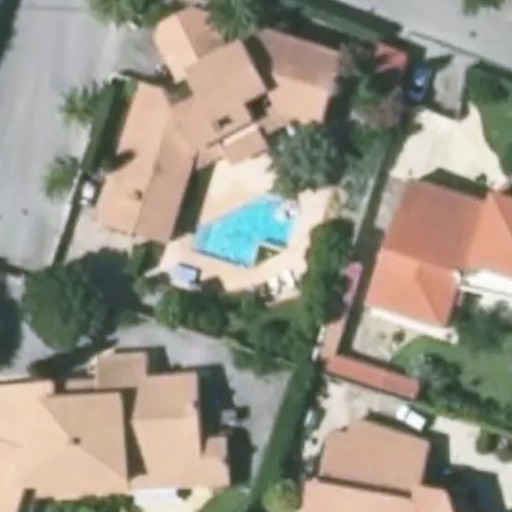pool: (196, 246, 326, 248)
